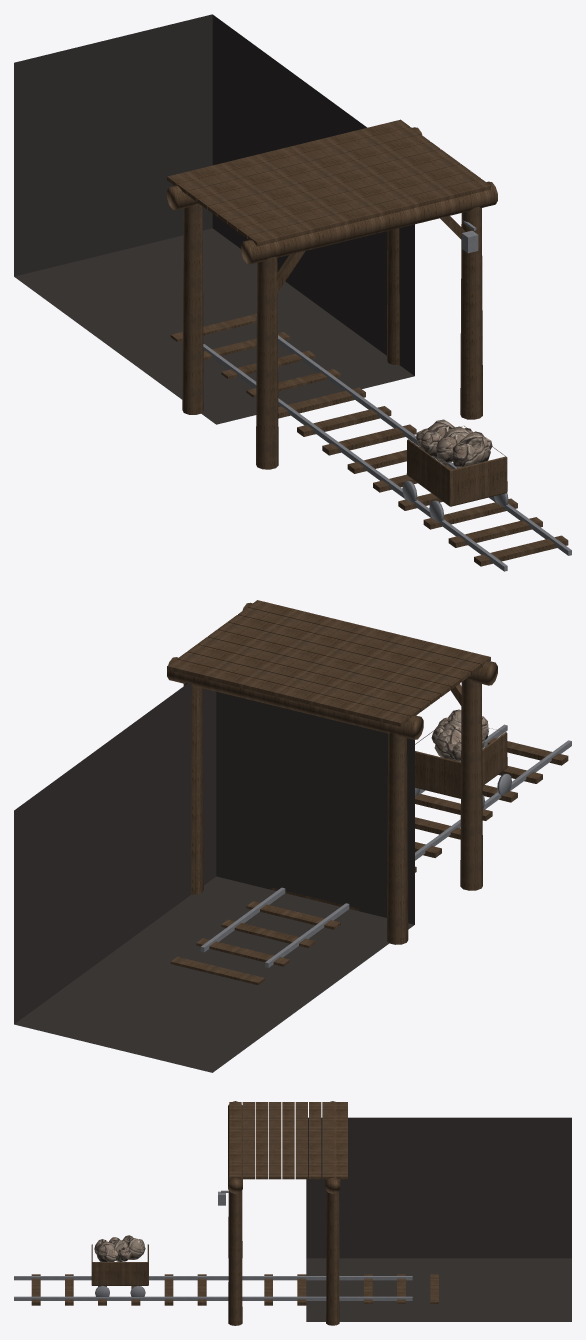
Rendered from mine_entrance.glb.
3 views of the same model, one above another, from view 1: azimuth 30°, elevation 25°; view 2: azimuth 150°, elevation 25°; view 3: azimuth 270°, elevation 25° (orthographic). The views are drawn at different scales.
Visible parts, largest first — view 1: mine_entrance; view 2: mine_entrance; view 3: mine_entrance.
Boxes of the visible parts, x1=… form: mine_entrance: x1=14, y1=14, x2=571, y2=571; mine_entrance: x1=14, y1=600, x2=571, y2=1072; mine_entrance: x1=14, y1=1101, x2=571, y2=1325.
Size of the model in its own units: 4.2 by 3.79 by 12.6.
Materials: 7 (5 with a texture image).
